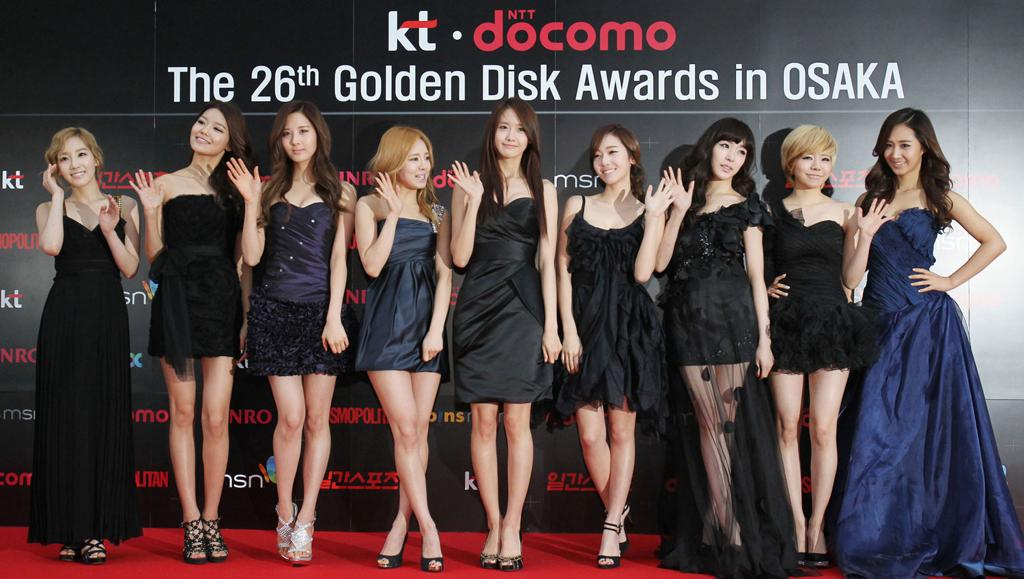face: (883, 126, 921, 174), (280, 117, 317, 161), (593, 140, 629, 185), (495, 112, 528, 158), (57, 144, 93, 186), (794, 147, 832, 186), (189, 112, 225, 153), (712, 138, 747, 179), (401, 144, 432, 188)
